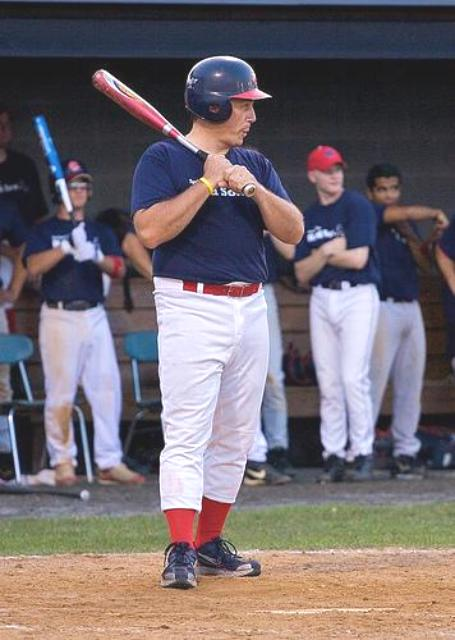bat: (92, 68, 208, 160), (35, 116, 78, 230)
